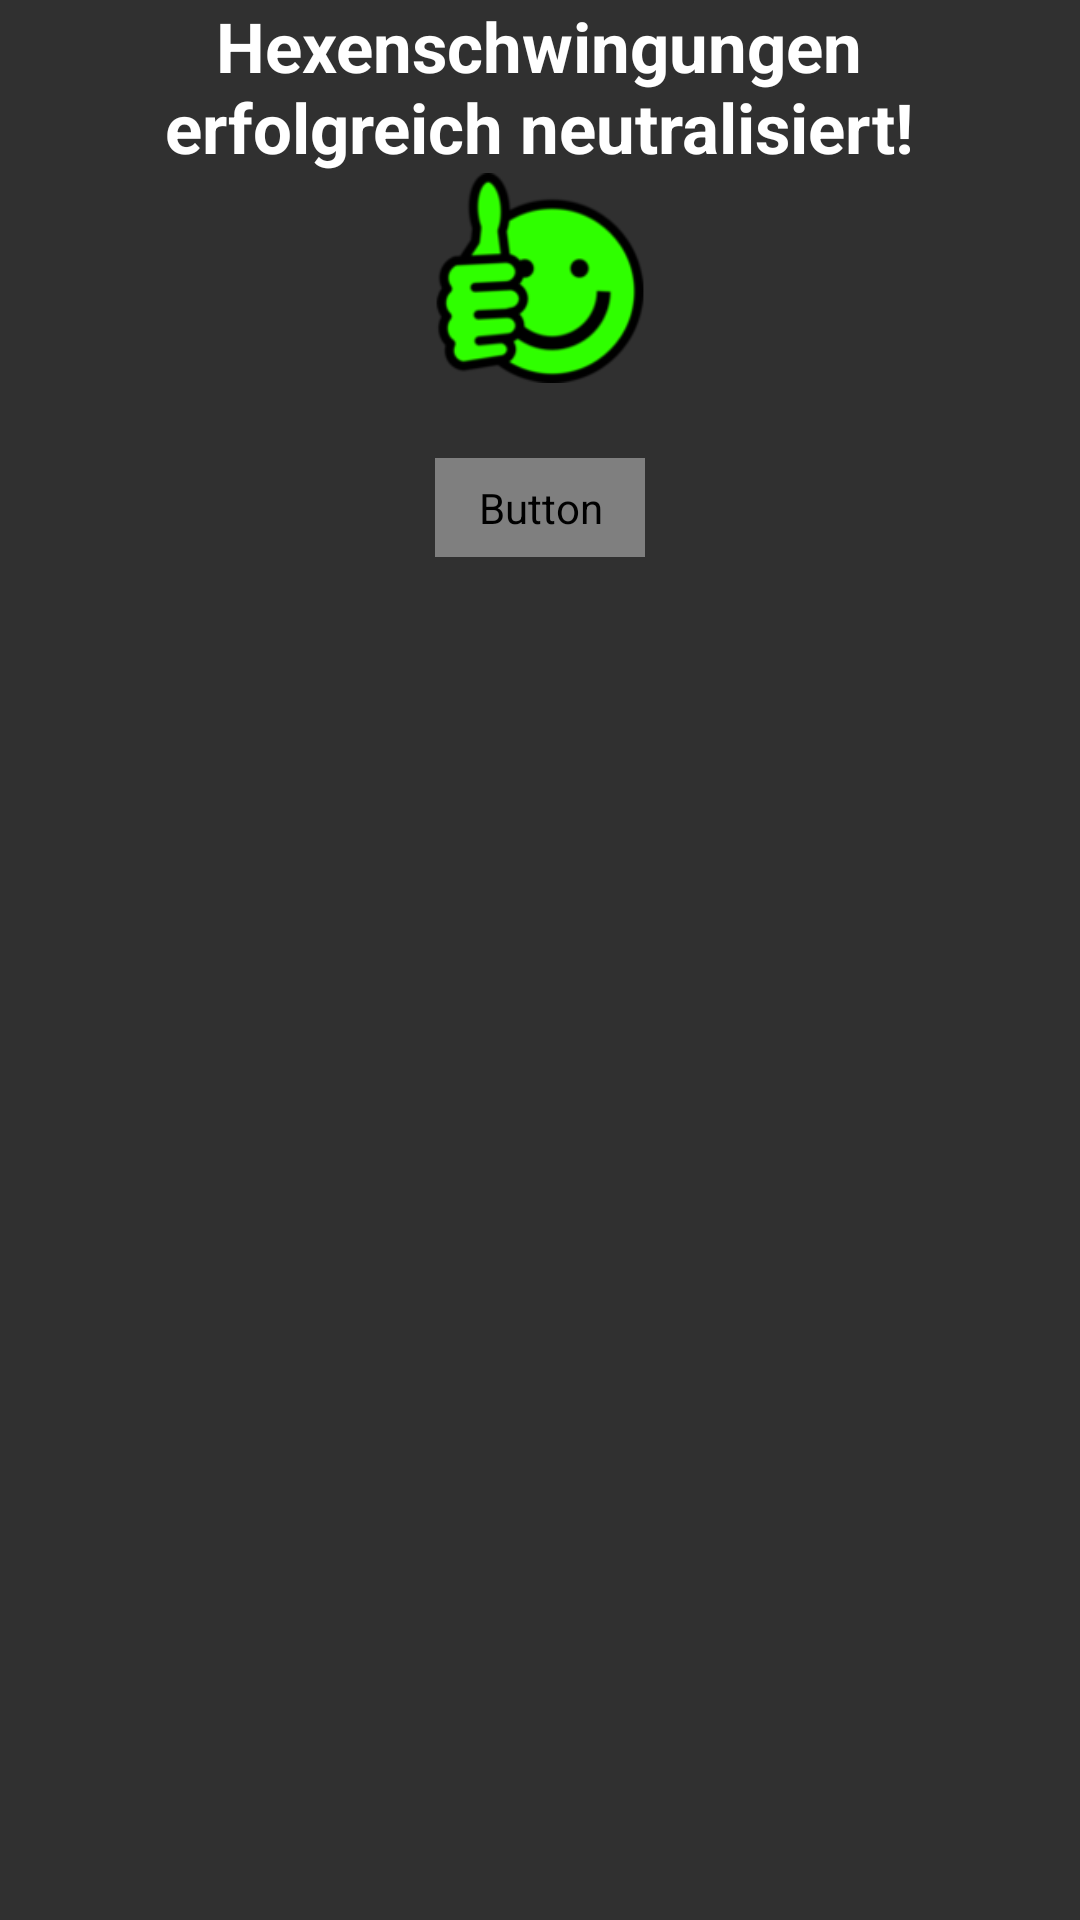

Icon click points for this 1080 × 1920 phone screenshot, format [x,y]:
smiley thumbup: [540,278]
